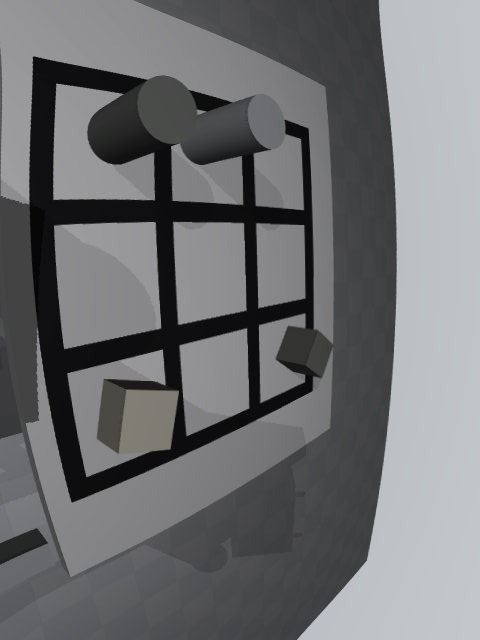can: (180, 94, 286, 165)
cube: (276, 325, 333, 378)
cylinder: (87, 75, 197, 165)
foam: (97, 379, 179, 454)
